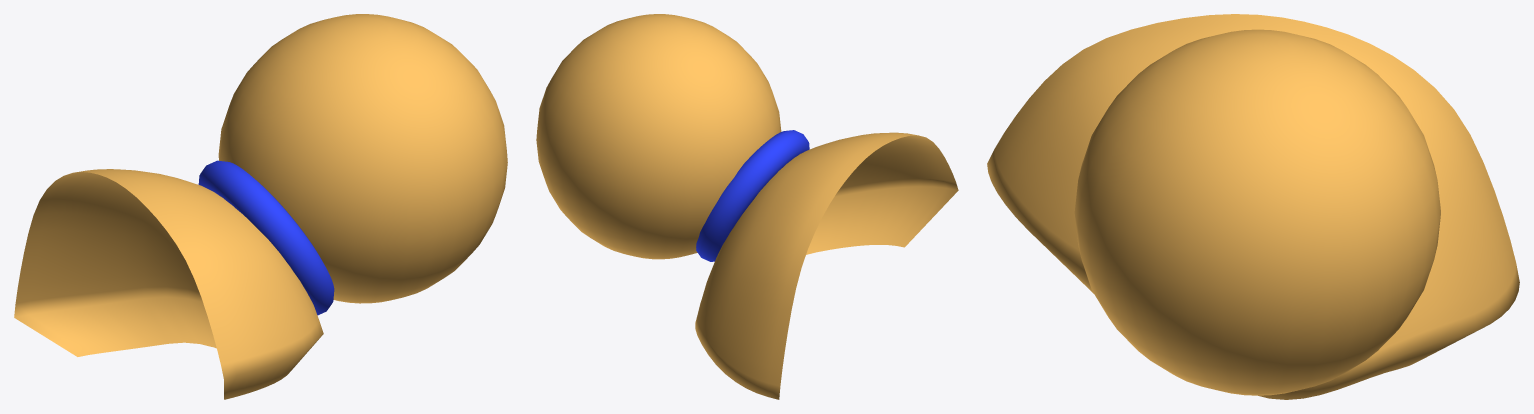
The model's file is hair-1.glb.
3 views of the same model, side by side, from view 1: azimuth 30°, elevation 25°; view 2: azimuth 150°, elevation 25°; view 3: azimuth 270°, elevation 25° (orthographic). The views are drawn at different scales.
Parts seen in each view (by area): view 1: Hair1; view 2: Hair1; view 3: Hair1.
Boxes of the visible parts, x1,y1,x2,y2 form: Hair1: [14, 14, 507, 399]; Hair1: [536, 14, 958, 399]; Hair1: [987, 14, 1519, 399].
Size of the model in its own units: 1.88 by 1.59 by 1.84.
